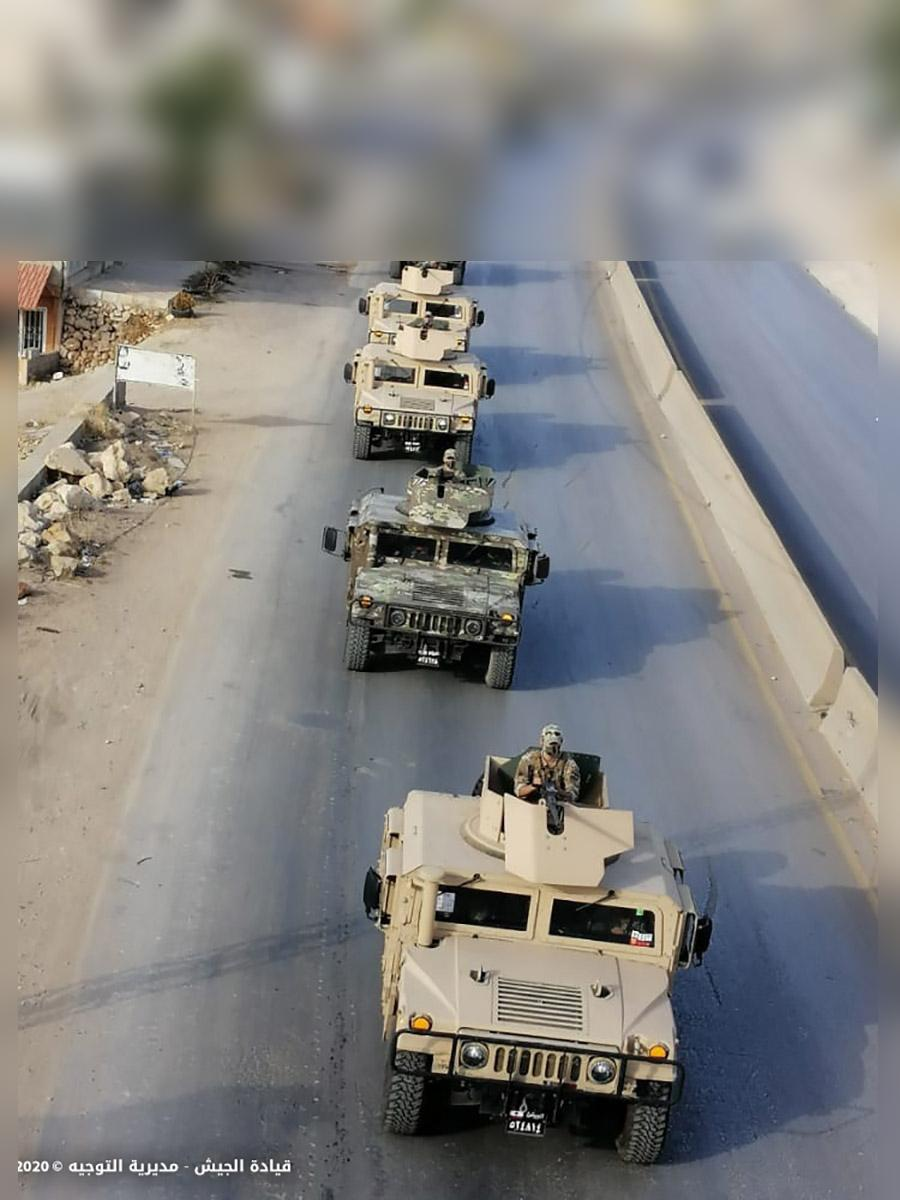armored_car: (362, 753, 716, 1160), (322, 464, 550, 690), (344, 322, 495, 462)
